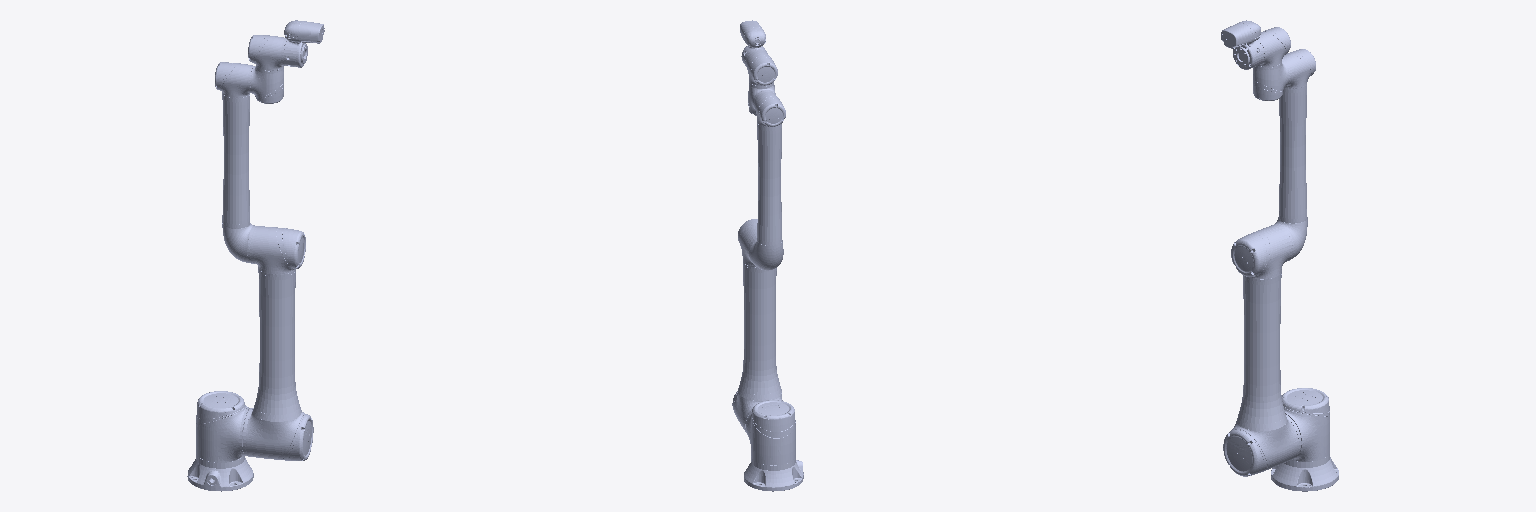
The robot description file, URDF, robot "TM5":
<?xml version="1.0" encoding="utf-8"?>
<!-- This URDF was automatically created by SolidWorks to URDF Exporter! Originally created by [author] ([email redacted]) 
     Commit Version: 1.6.0-4-g7f85cfe  Build Version: 1.6.7995.38578
     For more information, please see http://wiki.ros.org/sw_urdf_exporter -->
<robot
  name="TM5">
  <link
    name="base_link">
    <inertial>
      <origin
        xyz="-0.000339186329811804 -0.000341639056034744 0.008952786664559"
        rpy="0 0 0" />
      <mass
        value="1.86148814488558" />
      <inertia
        ixx="0.00458758385634292"
        ixy="-4.02220302882755E-05"
        ixz="4.89648572927579E-06"
        iyy="0.00457850223294538"
        iyz="4.77640857906808E-06"
        izz="0.00738479147486775" />
    </inertial>
    <visual>
      <origin
        xyz="0 0 0"
        rpy="0 0 0" />
      <geometry>
        <mesh
          filename="package://TM5/meshes/base_link.STL" />
      </geometry>
      <material
        name="">
        <color
          rgba="0.792156862745098 0.819607843137255 0.933333333333333 1" />
      </material>
    </visual>
    <collision>
      <origin
        xyz="0 0 0"
        rpy="0 0 0" />
      <geometry>
        <mesh
          filename="package://TM5/meshes/base_link.STL" />
      </geometry>
    </collision>
  </link>
  <link
    name="arm1">
    <inertial>
      <origin
        xyz="-0.00903881429035021 -0.0090393015648563 -0.0917059773628627"
        rpy="0 0 0" />
      <mass
        value="3.44221489500821" />
      <inertia
        ixx="0.0137012278689024"
        ixy="-0.000676028298957072"
        ixz="-9.46582767683791E-05"
        iyy="0.0137010086285607"
        iyz="-9.47056257973761E-05"
        izz="0.0122214345460471" />
    </inertial>
    <visual>
      <origin
        xyz="0 0 0"
        rpy="0 0 0" />
      <geometry>
        <mesh
          filename="package://TM5/meshes/arm1.STL" />
      </geometry>
      <material
        name="">
        <color
          rgba="0.792156862745098 0.819607843137255 0.933333333333333 1" />
      </material>
    </visual>
    <collision>
      <origin
        xyz="0 0 0"
        rpy="0 0 0" />
      <geometry>
        <mesh
          filename="package://TM5/meshes/arm1.STL" />
      </geometry>
    </collision>
  </link>
  <joint
    name="j1"
    type="continuous">
    <origin
      xyz="0 0 0.0489"
      rpy="-3.14159265358979 0 3.14159265358979" />
    <parent
      link="base_link" />
    <child
      link="arm1" />
    <axis
      xyz="0 0 -1" />
  </joint>
  <link
    name="arm2">
    <inertial>
      <origin
        xyz="-5.49794758331057E-08 0.277530633401474 -0.0910984287059112"
        rpy="0 0 0" />
      <mass
        value="10.3129487848108" />
      <inertia
        ixx="0.623618362149328"
        ixy="-3.69033595316913E-07"
        ixz="-4.99190317693188E-08"
        iyy="0.0264361313937452"
        iyz="-0.00195350059548232"
        izz="0.619604468218481" />
    </inertial>
    <visual>
      <origin
        xyz="0 0 0"
        rpy="0 0 0" />
      <geometry>
        <mesh
          filename="package://TM5/meshes/arm2.STL" />
      </geometry>
      <material
        name="">
        <color
          rgba="0.792156862745098 0.819607843137255 0.933333333333333 1" />
      </material>
    </visual>
    <collision>
      <origin
        xyz="0 0 0"
        rpy="0 0 0" />
      <geometry>
        <mesh
          filename="package://TM5/meshes/arm2.STL" />
      </geometry>
    </collision>
  </link>
  <joint
    name="j2"
    type="continuous">
    <origin
      xyz="-0.0628617928475009 -0.0628617928475012 -0.0911"
      rpy="-1.5707963267949 0 -0.785398163397448" />
    <parent
      link="arm1" />
    <child
      link="arm2" />
    <axis
      xyz="0 0 -1" />
  </joint>
  <link
    name="arm3">
    <inertial>
      <origin
        xyz="-1.01008094699484E-06 0.286114353679186 0.0522630185313056"
        rpy="0 0 0" />
      <mass
        value="3.90504419946985" />
      <inertia
        ixx="0.160347884641159"
        ixy="1.20957500283274E-06"
        ixz="2.23725974954347E-07"
        iyy="0.00417344751013712"
        iyz="-0.00289311775162248"
        izz="0.159941470360472" />
    </inertial>
    <visual>
      <origin
        xyz="0 0 0"
        rpy="0 0 0" />
      <geometry>
        <mesh
          filename="package://TM5/meshes/arm3.STL" />
      </geometry>
      <material
        name="">
        <color
          rgba="0.792156862745098 0.819607843137255 0.933333333333333 1" />
      </material>
    </visual>
    <collision>
      <origin
        xyz="0 0 0"
        rpy="0 0 0" />
      <geometry>
        <mesh
          filename="package://TM5/meshes/arm3.STL" />
      </geometry>
    </collision>
  </link>
  <joint
    name="j3"
    type="continuous">
    <origin
      xyz="0 0.6361 -0.0162499999999816"
      rpy="0 0 0" />
    <parent
      link="arm2" />
    <child
      link="arm3" />
    <axis
      xyz="0 0 -1" />
  </joint>
  <link
    name="arm4">
    <inertial>
      <origin
        xyz="-4.97176524433263E-06 8.13195594595584E-05 0.0469835378279937"
        rpy="0 0 0" />
      <mass
        value="0.784035509418373" />
      <inertia
        ixx="0.00126578776102991"
        ixy="-1.97346915414999E-07"
        ixz="1.6708703849688E-07"
        iyy="0.000861922925387094"
        iyz="-7.10464499404379E-06"
        izz="0.00121723591727515" />
    </inertial>
    <visual>
      <origin
        xyz="0 0 0"
        rpy="0 0 0" />
      <geometry>
        <mesh
          filename="package://TM5/meshes/arm4.STL" />
      </geometry>
      <material
        name="">
        <color
          rgba="0.792156862745098 0.819607843137255 0.933333333333333 1" />
      </material>
    </visual>
    <collision>
      <origin
        xyz="0 0 0"
        rpy="0 0 0" />
      <geometry>
        <mesh
          filename="package://TM5/meshes/arm4.STL" />
      </geometry>
    </collision>
  </link>
  <joint
    name="j4"
    type="continuous">
    <origin
      xyz="0 0.5579 -4.99999999891698E-05"
      rpy="3.14159265358979 0 3.14159265358979" />
    <parent
      link="arm3" />
    <child
      link="arm4" />
    <axis
      xyz="0 0 -1" />
  </joint>
  <link
    name="arm5">
    <inertial>
      <origin
        xyz="-6.10760713808389E-05 -5.40030789835805E-05 -0.0469838323415468"
        rpy="0 0 0" />
      <mass
        value="0.784036122179426" />
      <inertia
        ixx="0.00106405279060596"
        ixy="-0.000201932428761119"
        ixz="-5.13965028113643E-06"
        iyy="0.00106365822062316"
        iyz="-4.90461120219163E-06"
        izz="0.00121723521087743" />
    </inertial>
    <visual>
      <origin
        xyz="0 0 0"
        rpy="0 0 0" />
      <geometry>
        <mesh
          filename="package://TM5/meshes/arm5.STL" />
      </geometry>
      <material
        name="">
        <color
          rgba="0.792156862745098 0.819607843137255 0.933333333333333 1" />
      </material>
    </visual>
    <collision>
      <origin
        xyz="0 0 0"
        rpy="0 0 0" />
      <geometry>
        <mesh
          filename="package://TM5/meshes/arm5.STL" />
      </geometry>
    </collision>
  </link>
  <joint
    name="j5"
    type="continuous">
    <origin
      xyz="0 0.0549000000000002 0.0511000000000656"
      rpy="-1.5707963267949 0.785398163397519 3.14159265358979" />
    <parent
      link="arm4" />
    <child
      link="arm5" />
    <axis
      xyz="0 0 1" />
  </joint>
  <link
    name="arm6">
    <inertial>
      <origin
        xyz="0.000247993705681418 0.0422123576703315 0.0420816262643481"
        rpy="0 0 0" />
      <mass
        value="0.660865735968929" />
      <inertia
        ixx="0.00165599018684128"
        ixy="4.75496084392408E-06"
        ixz="3.74639973995132E-06"
        iyy="0.000797004561618448"
        iyz="-0.00033680772019636"
        izz="0.00135925556301863" />
    </inertial>
    <visual>
      <origin
        xyz="0 0 0"
        rpy="0 0 0" />
      <geometry>
        <mesh
          filename="package://TM5/meshes/arm6.STL" />
      </geometry>
      <material
        name="">
        <color
          rgba="0.792156862745098 0.819607843137255 0.933333333333333 1" />
      </material>
    </visual>
    <collision>
      <origin
        xyz="0 0 0"
        rpy="0 0 0" />
      <geometry>
        <mesh
          filename="package://TM5/meshes/arm6.STL" />
      </geometry>
    </collision>
  </link>
  <joint
    name="j6"
    type="continuous">
    <origin
      xyz="-0.0388201622871412 -0.0388201622871409 -0.0510999999999997"
      rpy="-1.5707963267949 0 2.35619449019227" />
    <parent
      link="arm5" />
    <child
      link="arm6" />
    <axis
      xyz="0 0 -1" />
  </joint>
</robot>

--- Facts derived from the render (not from the file) ---
3 views of the same robot in one strip: view 1: azimuth 30°, elevation 25°; view 2: azimuth 150°, elevation 25°; view 3: azimuth 270°, elevation 25° (orthographic).
Robot: TM5 — 7 links, 6 joints (6 continuous); root link base_link; default pose: every joint at zero.
Links seen in each view (by area): view 1: arm2, arm3, arm1, base_link, arm6, arm5, arm4; view 2: arm2, arm3, arm1, base_link, arm5, arm6; view 3: arm2, arm3, arm1, base_link, arm6, arm4, arm5.
Link boxes in pixels (box(x1,y1,x2,y2)): arm2: box(243, 225, 313, 460); arm3: box(215, 62, 253, 262); arm1: box(196, 391, 249, 466); base_link: box(187, 458, 253, 491); arm6: box(284, 20, 324, 67); arm5: box(248, 35, 286, 70); arm4: box(250, 66, 283, 103); arm2: box(732, 219, 782, 432); arm3: box(749, 90, 785, 270); arm1: box(746, 400, 795, 468); base_link: box(744, 460, 803, 491); arm5: box(745, 49, 777, 85); arm6: box(740, 20, 766, 65); arm2: box(1223, 224, 1300, 476); arm3: box(1275, 49, 1315, 258); arm1: box(1282, 388, 1329, 465); base_link: box(1271, 457, 1338, 491); arm6: box(1221, 20, 1264, 69); arm4: box(1253, 62, 1289, 100); arm5: box(1258, 27, 1290, 66).
Bounding box of the posed robot: 0.3512 × 0.3514 × 1.57 m (x, y, z).
Meshes: 7 distinct files referenced, 7 mesh visuals loaded (7 binary STL).